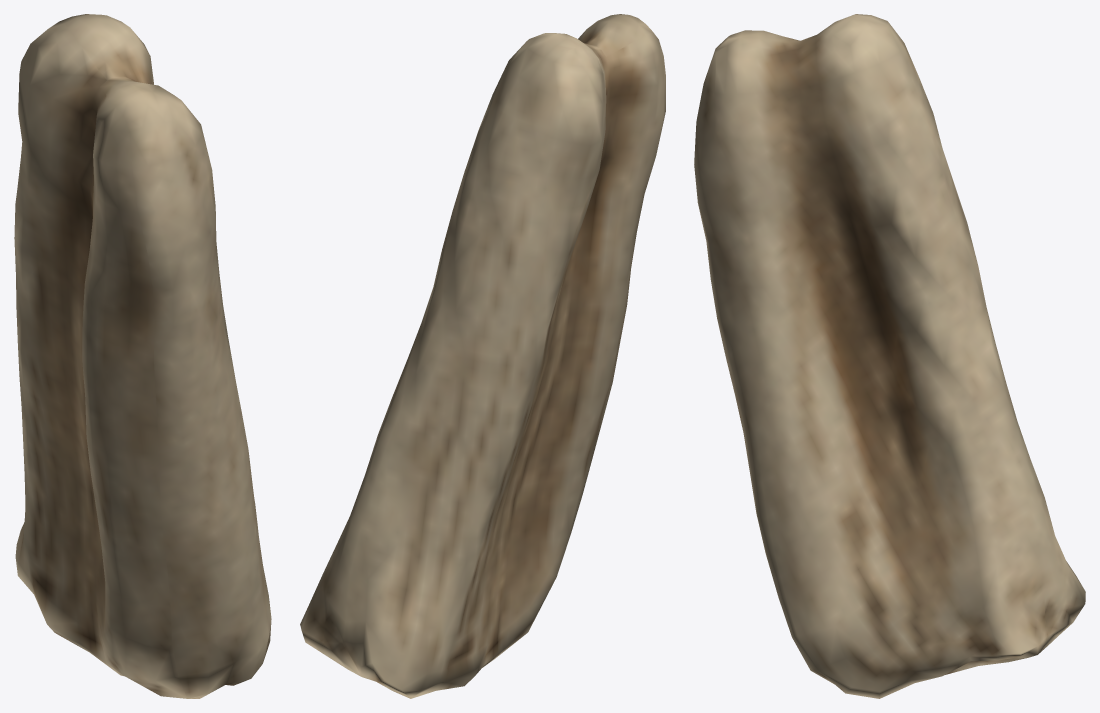
File: Maxilary_Premolar2.glb
The picture shows the model from 3 angles, left to right: view 1: azimuth 30°, elevation 25°; view 2: azimuth 150°, elevation 25°; view 3: azimuth 270°, elevation 25°; orthographic projection. The views are drawn at different scales.
Visible parts, largest first — view 1: Group5242_Mesh.068; view 2: Group5242_Mesh.068; view 3: Group5242_Mesh.068.
Part boxes in pixels (box(x1,y1,x2,y2)): Group5242_Mesh.068: box(14, 14, 271, 698); Group5242_Mesh.068: box(300, 14, 665, 698); Group5242_Mesh.068: box(694, 14, 1085, 698).
Bounding box in the file's own units: 0.0278 × 0.0753 × 0.0432.
Materials: 1 (1 with a texture image).
